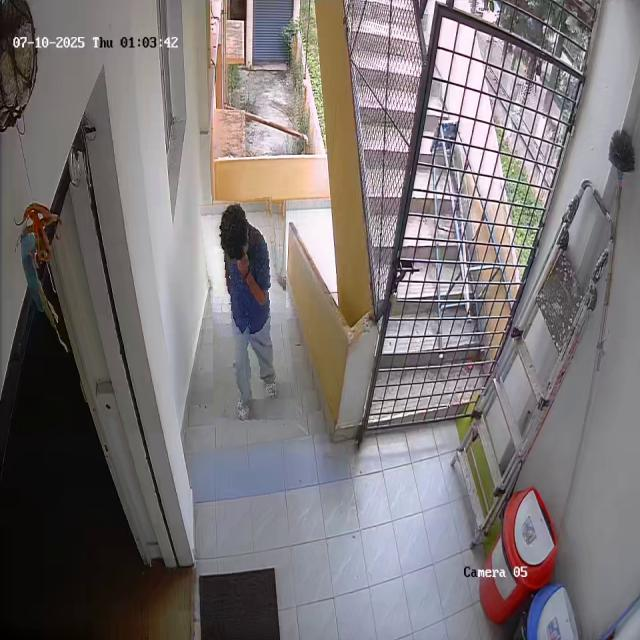person: (206, 198, 293, 429)
